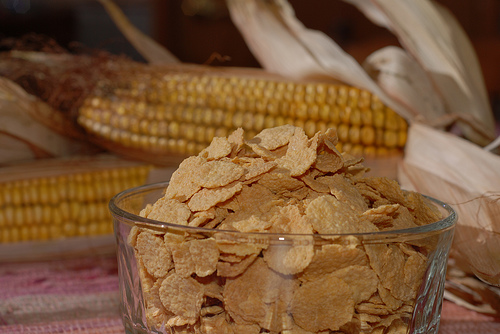corn: (70, 60, 407, 158), (0, 153, 178, 264)
